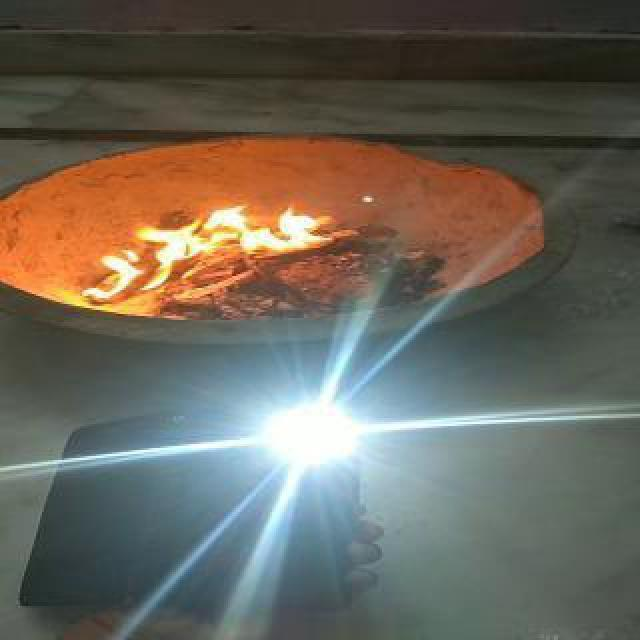Fire: (64, 202, 346, 308)
